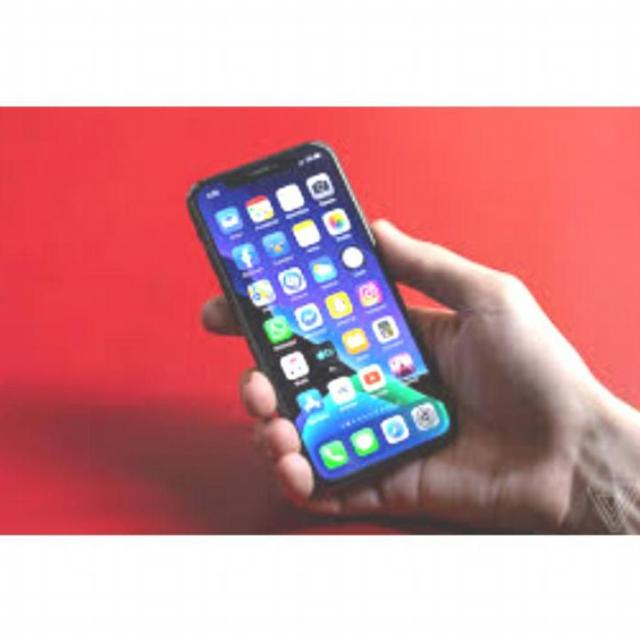device: (181, 135, 464, 479)
